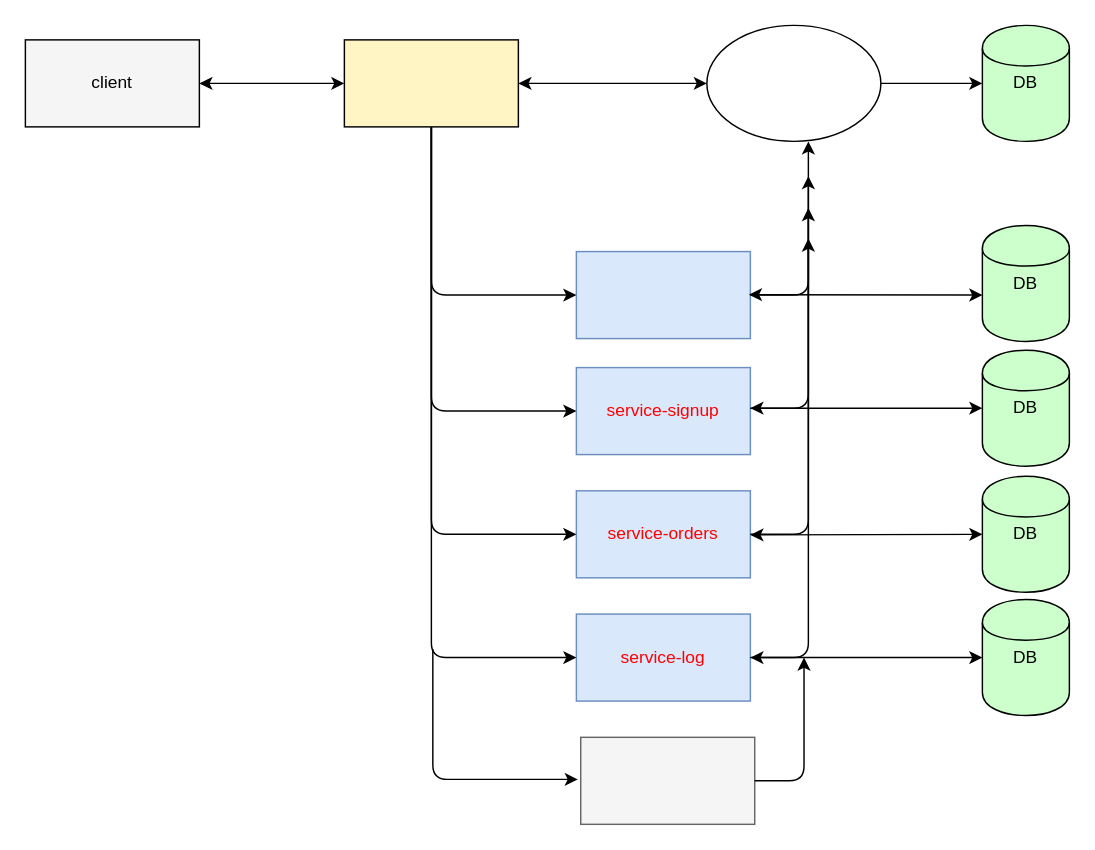
Image size: 1095x850. Some labels were removed from this diagram. The centre of each missing label's shape, as x and y in pixels:
"another-service (e.g mailer)" goes at point (667, 780).
"api-gateway" goes at point (430, 82).
"Service Registry" goes at point (793, 82).
"service-login" goes at point (662, 294).
